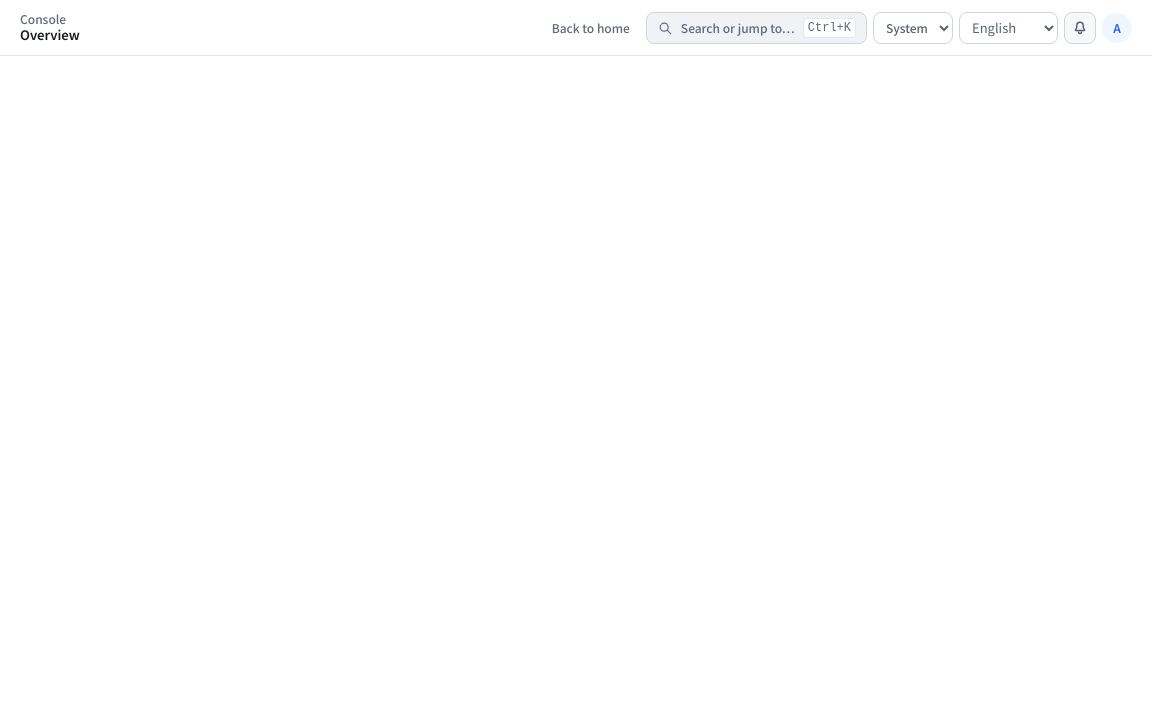
Test: console notification bell › renders an empty state when there are no notifications
The image size is (1152, 720).
Click the button named "Notifications". click: (1080, 28)
box: [1064,12,1096,44]
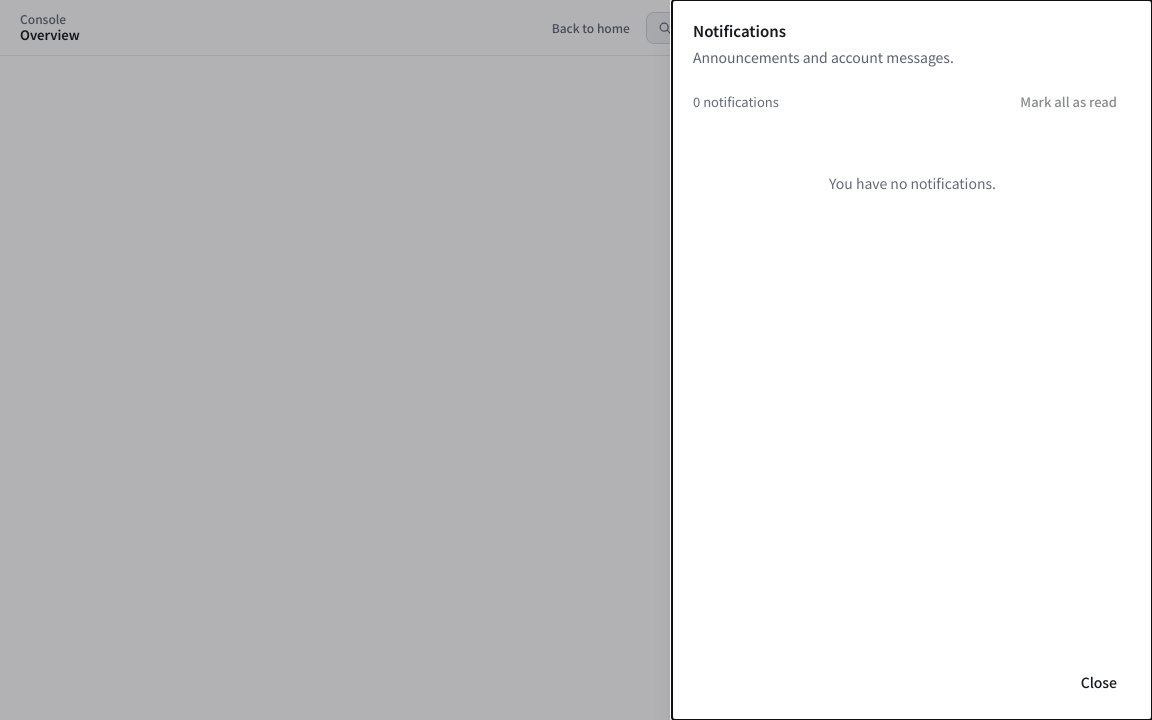
expect the text "You have no notifications." is shown: met, box [829,173,996,193]
